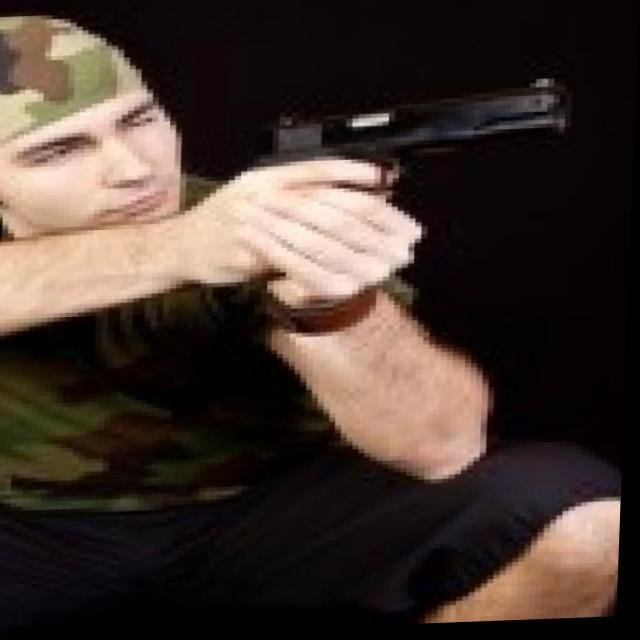weapon: (232, 74, 573, 338)
